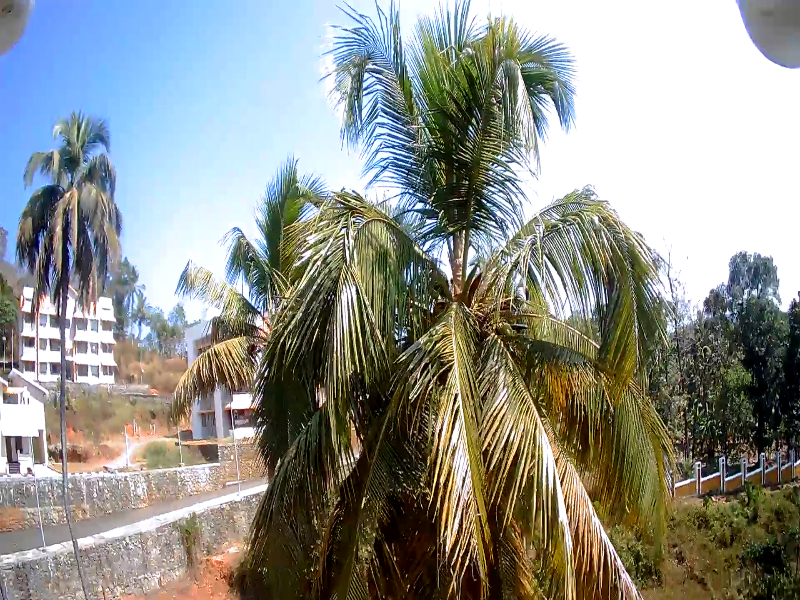coconut: (498, 319, 513, 338)
